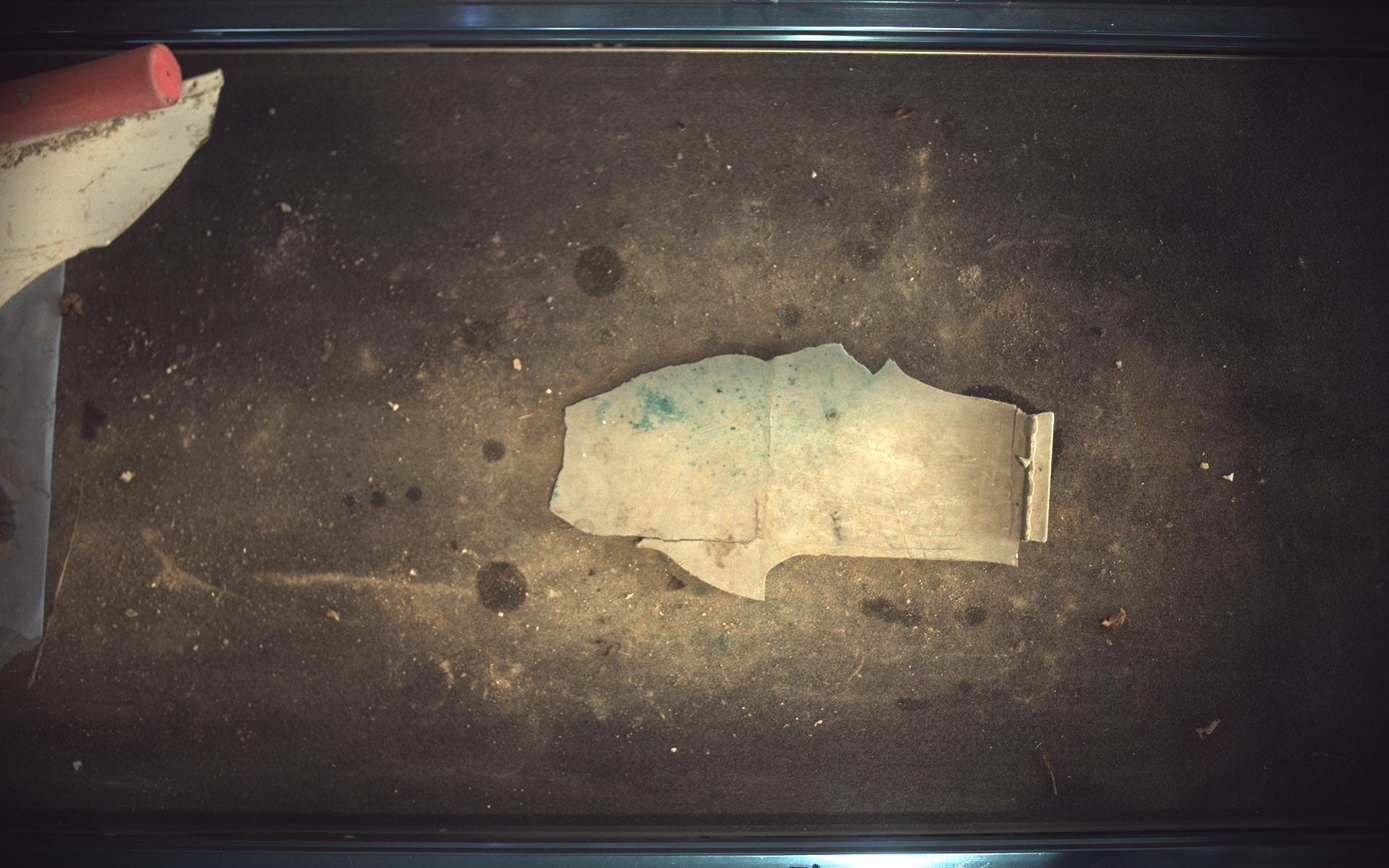plastic: (551, 344, 1055, 600)
